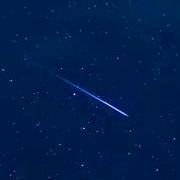meteorite: (43, 64, 134, 120)
